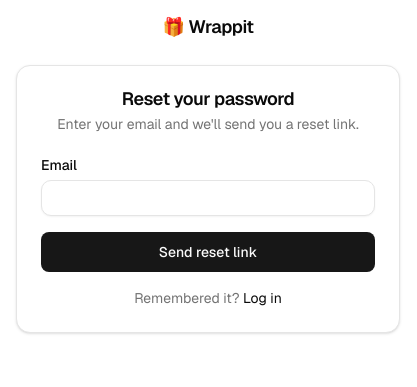
Test: ForgotPasswordPage › shows an error when sending fails
Type "a@b.com" into the field labelled "Email".
click(208, 198); type("a@b.com")  # box [41,180,375,216]
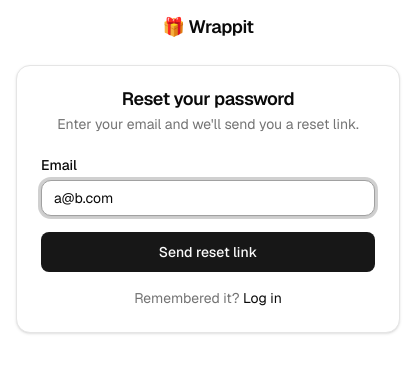
Click the button "Send reset link".
click(208, 252)  # box [41,232,375,272]
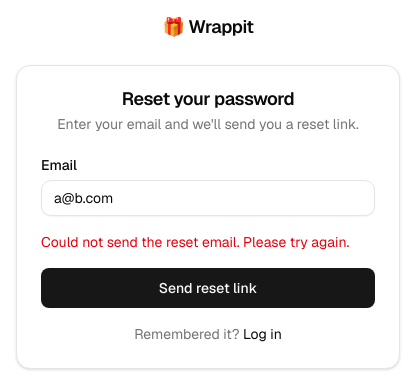
expect the text "Could not send the reset email. Please try again." is shown: met, box [41,232,375,252]
